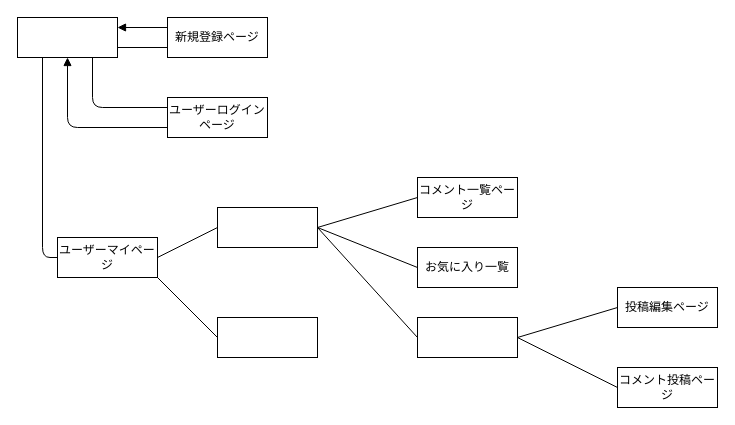
The diagram is 735 pixels wide and 425 high, and some of its shapes have lost their labels. Here are the shapes that lost their labels. From the top down, the centre of each, then its label:
point 67,37: Topページ(投稿表示)
point 267,227: 投稿一覧ページ
point 267,337: 投稿ページ
point 467,337: 投稿詳細ページ
